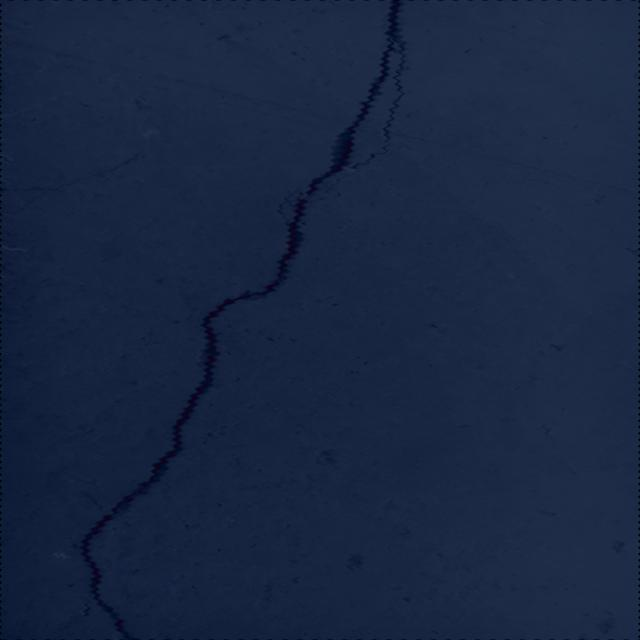crack: (51, 0, 413, 640)
